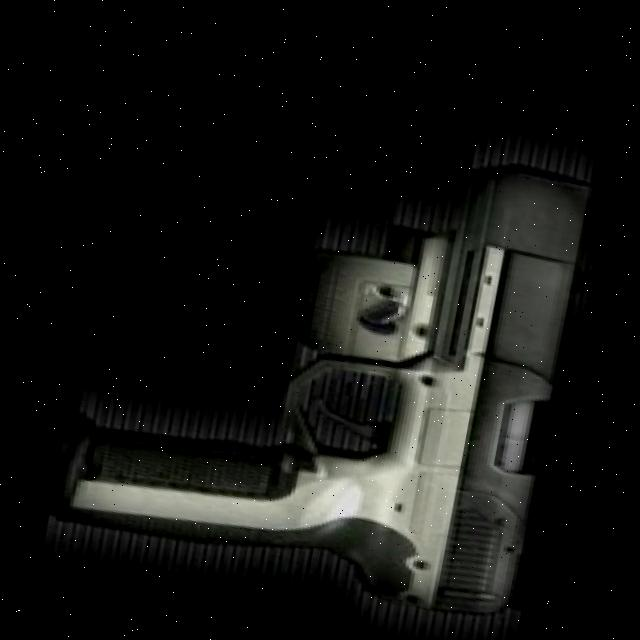pistol: (49, 62, 601, 628)
